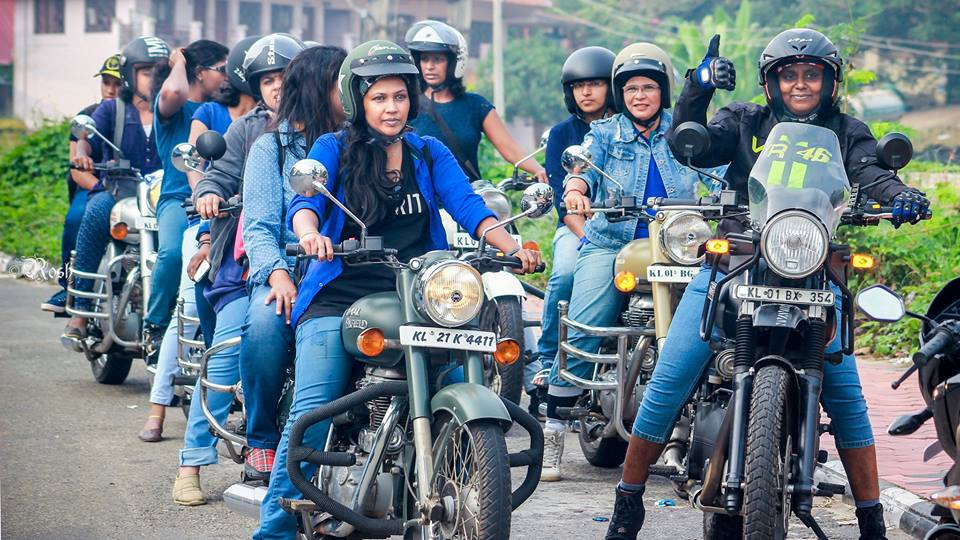with_helmet: (329, 39, 423, 123), (758, 26, 843, 109), (612, 40, 677, 100), (560, 46, 610, 109)
